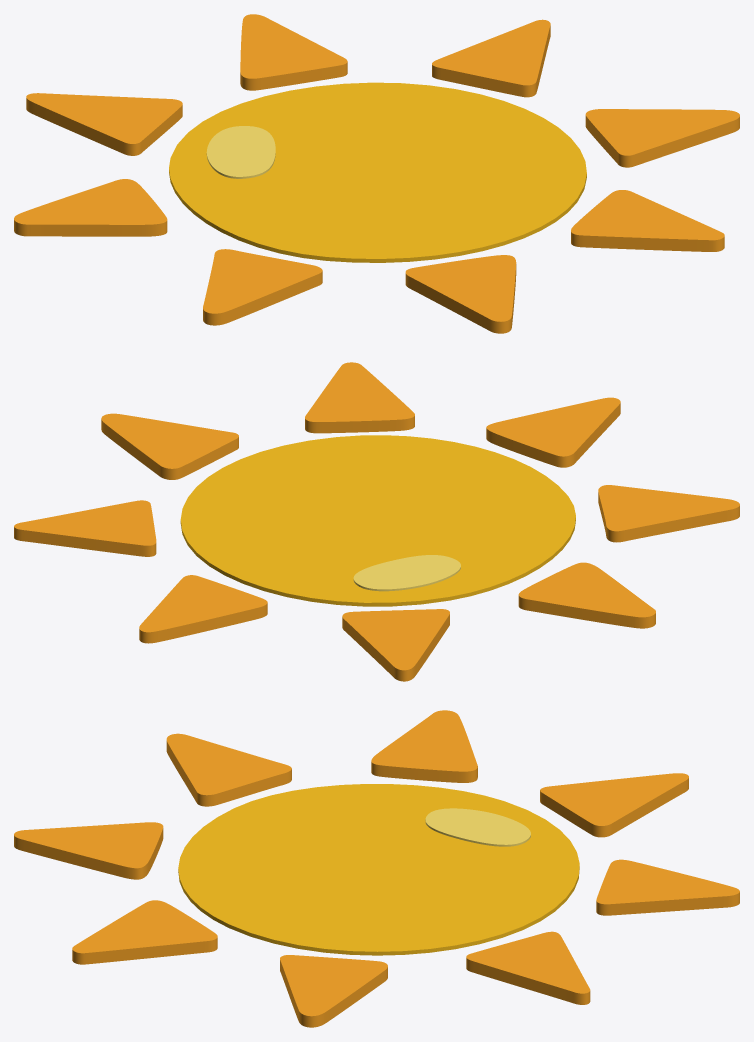
The model's file is emoji_u2600.glb.
3 views of the same model, one above another, from view 1: azimuth 30°, elevation 25°; view 2: azimuth 150°, elevation 25°; view 3: azimuth 270°, elevation 25° (orthographic). The views are drawn at different scales.
Parts seen in each view (by area): view 1: emoji_u2600; view 2: emoji_u2600; view 3: emoji_u2600.
Part boxes in pixels (box(x1,y1,x2,y2)): emoji_u2600: box(14, 14, 739, 333); emoji_u2600: box(14, 362, 739, 681); emoji_u2600: box(14, 710, 739, 1027).
Size of the model in its own units: 0.0345 by 0.0006 by 0.0346.
